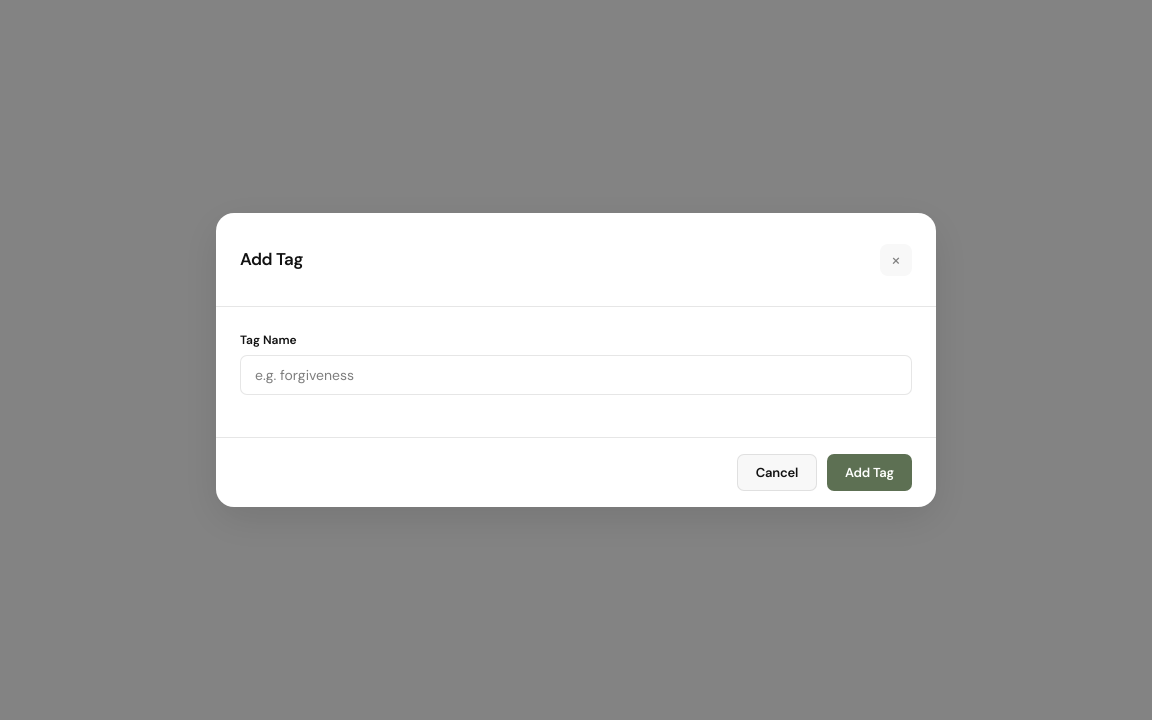
Test case: AddTagModal › asks for a tag and sends nothing when the input is
Click the button "Add Tag" at [870, 473], box 827,454 -> 912,491
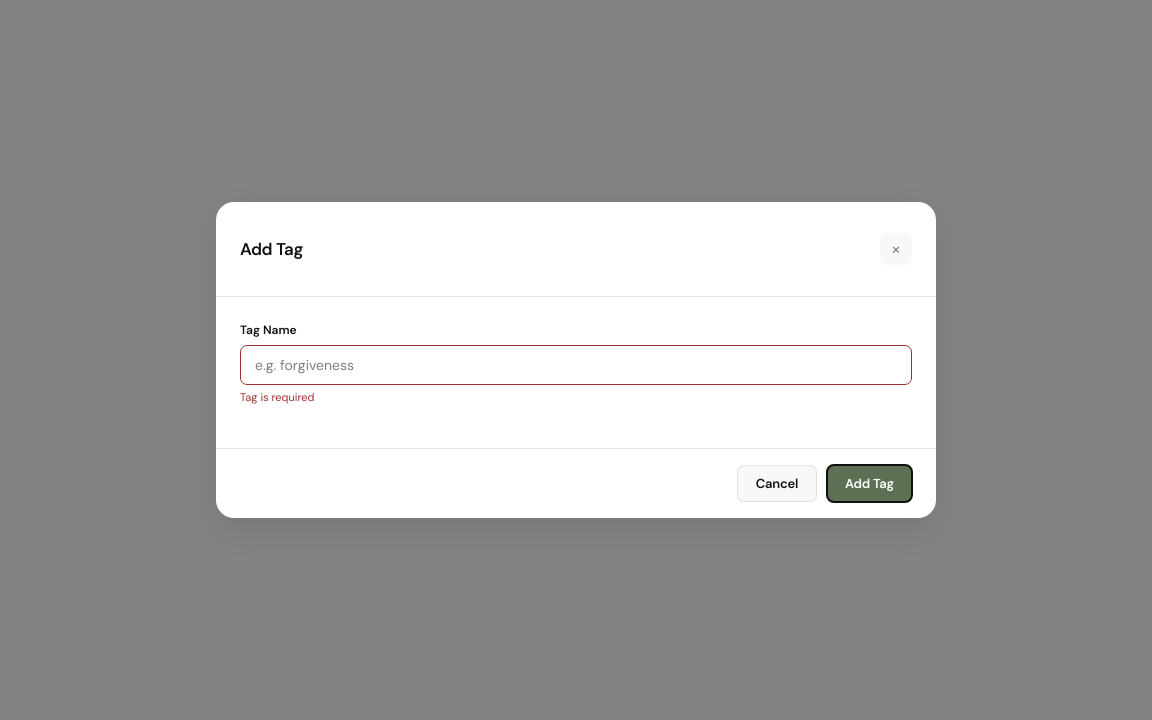
Check: the text "Tag is required" is shown, box 240,390 -> 314,404
